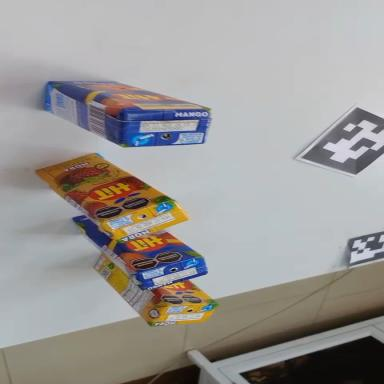HIT-MANGO: (36, 66, 215, 166), (62, 214, 213, 301)
HIT-MORA: (26, 131, 193, 267), (83, 252, 222, 343)
cara_F: (30, 130, 173, 248), (48, 63, 209, 132), (64, 212, 207, 285), (151, 278, 217, 306)
